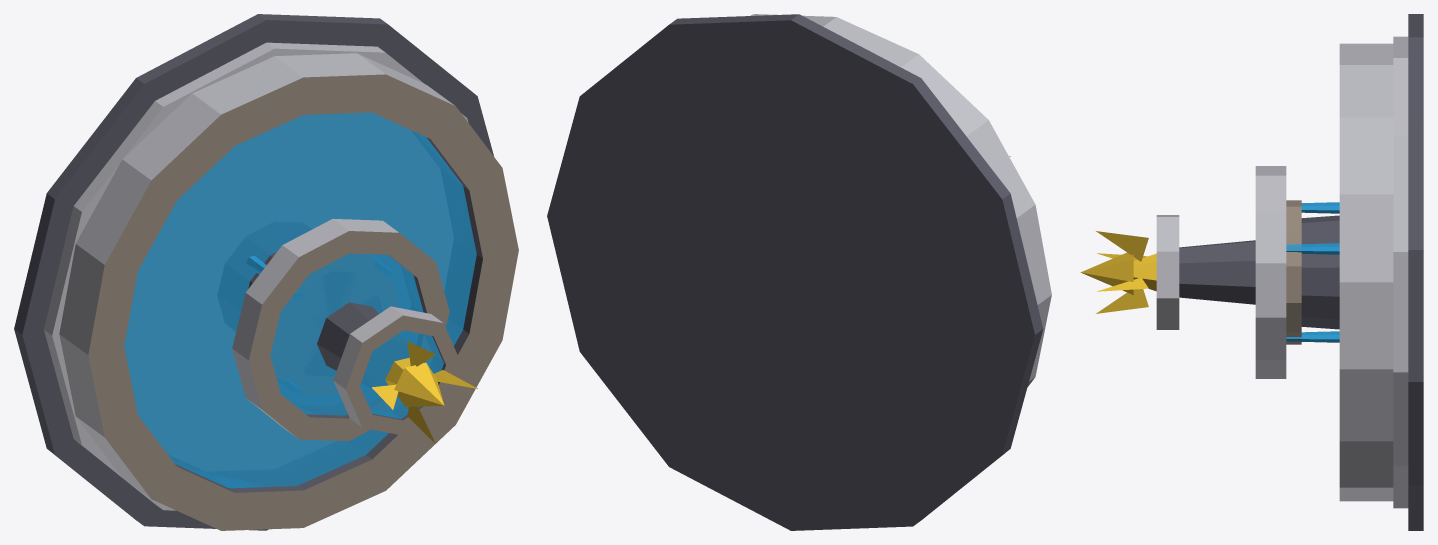
File: prontera_fountain.obj
The picture shows the model from 3 angles, left to right: view 1: azimuth 30°, elevation 25°; view 2: azimuth 150°, elevation 25°; view 3: azimuth 270°, elevation 25°; orthographic projection. The views are drawn at different scales.
Parts seen in each view (by area): view 1: prontera_fountain; view 2: prontera_fountain; view 3: prontera_fountain.
Boxes of the visible parts, x1=… form: prontera_fountain: x1=14, y1=14, x2=518, y2=530; prontera_fountain: x1=547, y1=14, x2=1051, y2=530; prontera_fountain: x1=1080, y1=14, x2=1423, y2=530.
Size of the model in its own units: 6.8 by 6.8 by 4.5.
